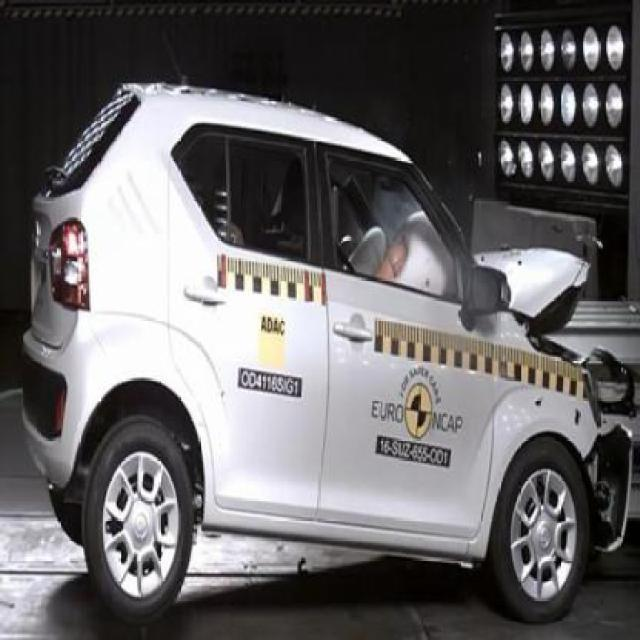bonnet-dent: (479, 244, 591, 373)
front-bumper-dent: (562, 425, 637, 548)
